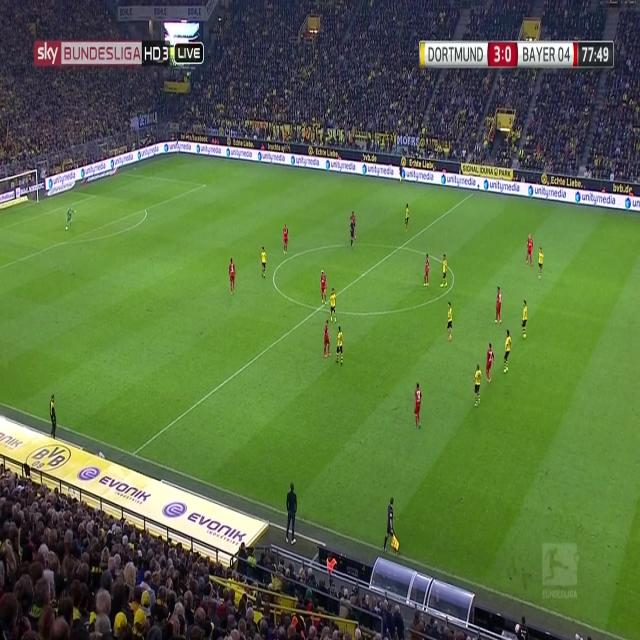Ball: (64, 223, 68, 233)
Goalkeeper: (63, 204, 79, 228)
Player: (501, 326, 513, 376), (484, 340, 496, 386), (412, 378, 422, 433), (472, 362, 483, 412), (322, 318, 334, 362), (520, 296, 530, 346), (419, 252, 432, 290), (437, 251, 449, 292), (227, 255, 238, 299), (335, 323, 345, 371), (317, 266, 328, 309), (444, 299, 454, 343), (494, 284, 504, 326), (524, 230, 535, 268), (536, 243, 546, 282), (280, 222, 290, 260), (329, 284, 338, 326), (260, 243, 268, 281), (402, 202, 411, 234)
Referee: (381, 497, 400, 555), (348, 217, 356, 248), (398, 161, 407, 183)
